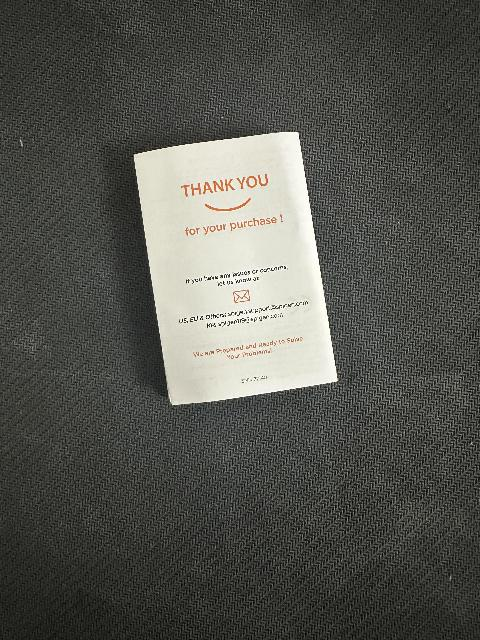Kagit: (130, 124, 341, 411)
